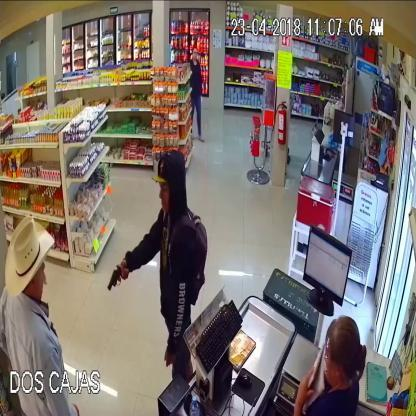pistols: (103, 263, 132, 292)
